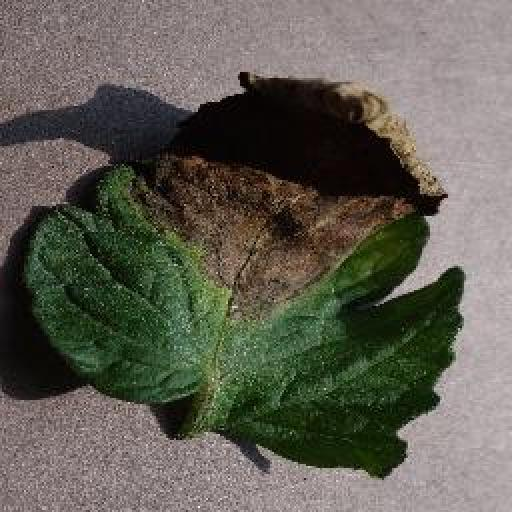disease_tomato: (24, 66, 468, 482)
